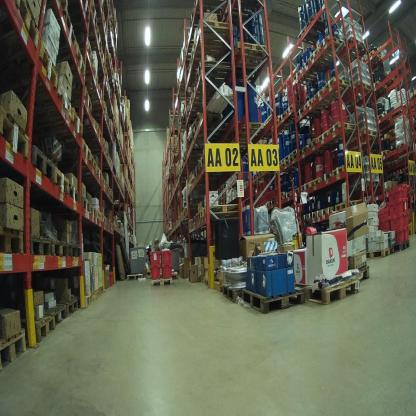pallet: (44, 1, 108, 157), (1, 41, 60, 94), (238, 272, 304, 318), (302, 275, 366, 310), (34, 104, 85, 144), (1, 101, 34, 161), (47, 35, 89, 81), (192, 54, 235, 94), (18, 87, 72, 118), (185, 33, 230, 70), (187, 79, 228, 118), (2, 1, 38, 45), (27, 136, 54, 189), (1, 327, 29, 374), (34, 11, 73, 44), (40, 296, 71, 336), (191, 15, 233, 44), (25, 308, 57, 345), (235, 38, 269, 71), (63, 82, 98, 113), (1, 222, 28, 261), (231, 116, 274, 140), (27, 230, 55, 264), (201, 200, 246, 221), (312, 82, 348, 108), (194, 111, 229, 137), (66, 130, 92, 164), (51, 293, 83, 317), (199, 151, 227, 178), (220, 284, 244, 314), (322, 75, 353, 97), (305, 94, 337, 115), (318, 35, 345, 58), (55, 157, 69, 199), (297, 54, 325, 75), (334, 197, 366, 215), (309, 44, 335, 66), (328, 119, 358, 138), (297, 25, 324, 46), (333, 161, 361, 181), (77, 183, 92, 218), (50, 236, 71, 261), (307, 11, 330, 33), (291, 68, 319, 86), (295, 104, 321, 123), (353, 78, 375, 100), (364, 247, 394, 262), (341, 263, 370, 278), (362, 49, 385, 67), (355, 124, 379, 141), (90, 22, 103, 52), (343, 37, 367, 53), (373, 77, 393, 96), (77, 3, 92, 26), (68, 177, 79, 208), (83, 44, 94, 75), (88, 122, 104, 143), (316, 128, 333, 147), (392, 137, 411, 154), (86, 0, 99, 24), (373, 113, 395, 127), (69, 240, 85, 259), (284, 98, 299, 118), (123, 271, 146, 284), (84, 157, 97, 178), (395, 238, 412, 252), (153, 275, 176, 285), (382, 182, 396, 198), (320, 203, 334, 219), (376, 147, 393, 160), (311, 203, 323, 221), (180, 151, 190, 171), (311, 172, 322, 189), (288, 146, 301, 160), (298, 143, 310, 158), (188, 211, 197, 230), (193, 210, 203, 227), (289, 185, 301, 198), (90, 200, 97, 222), (307, 138, 318, 152), (94, 205, 103, 222), (321, 172, 332, 185), (269, 119, 280, 132), (278, 191, 292, 201), (302, 209, 312, 223), (94, 68, 100, 91), (301, 181, 311, 194), (397, 151, 407, 164), (289, 154, 300, 165), (276, 189, 288, 199), (278, 108, 288, 120), (169, 269, 178, 281), (204, 274, 210, 291), (101, 212, 107, 228), (281, 153, 289, 165), (96, 167, 101, 184), (391, 155, 397, 168), (282, 158, 289, 169), (274, 112, 280, 123), (276, 159, 282, 168), (385, 159, 390, 169)
small_load_carrier: (388, 197, 405, 217), (375, 216, 391, 237), (392, 212, 405, 232), (160, 246, 174, 263), (388, 186, 404, 199), (149, 249, 161, 266), (162, 263, 174, 280), (150, 264, 161, 281), (393, 231, 405, 245), (404, 224, 411, 244), (379, 205, 389, 219), (401, 195, 410, 210), (401, 181, 409, 195), (404, 211, 410, 226)
